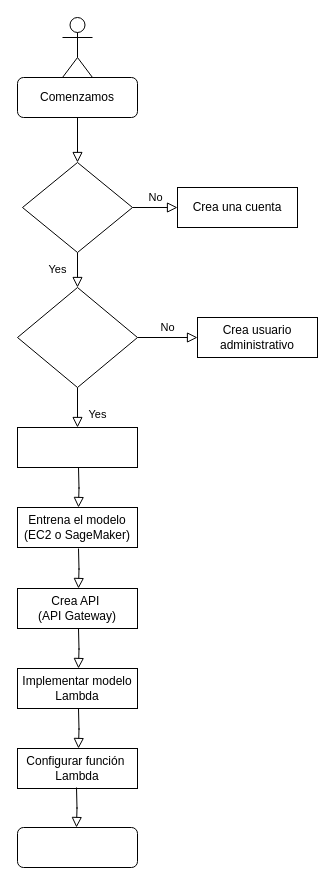
Image size: 335x885. Some labels were removed from this diagram. Here are the shapes that lost their labels. From the top down, the centre of each, then its label:
At pixel 77 207: "¿Tienes cuenta AWS?".
At pixel 77 337: "¿Tienes un usuario administrativo?".
At pixel 77 447: "Almacena los datos en Amazon S3".
At pixel 77 847: "FIN".
